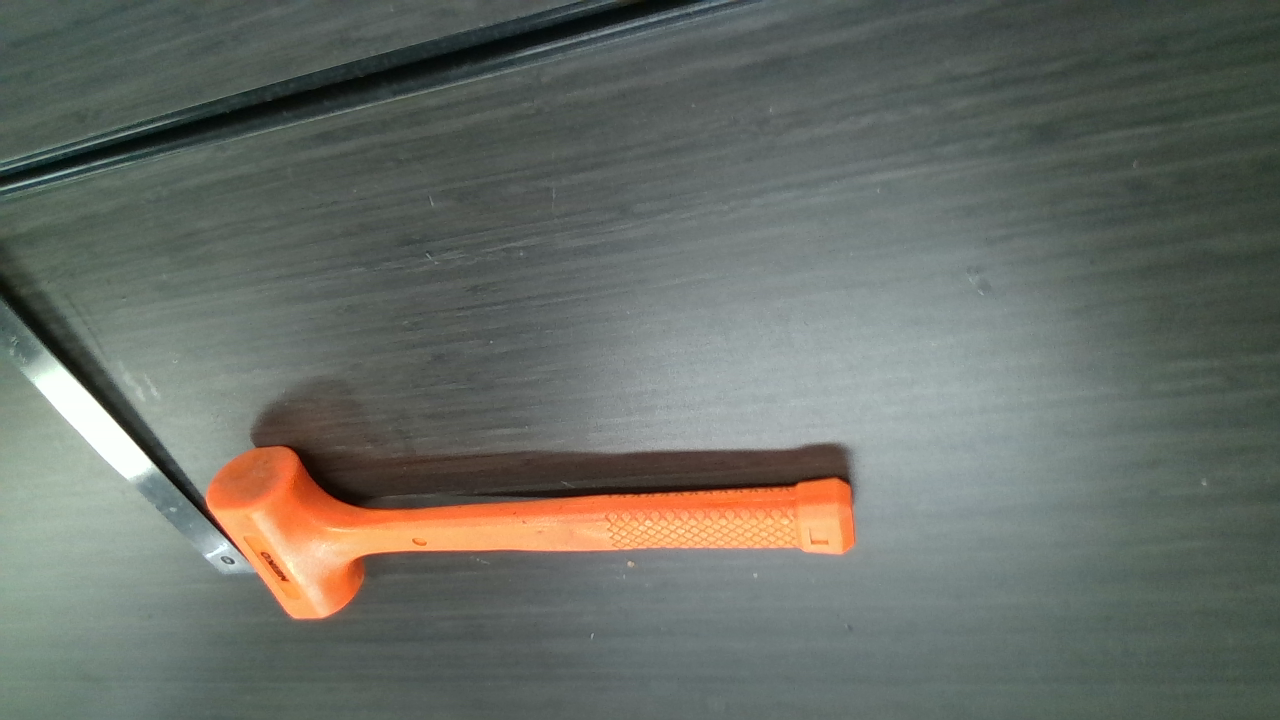Orange Hammer: (212, 447, 852, 618)
